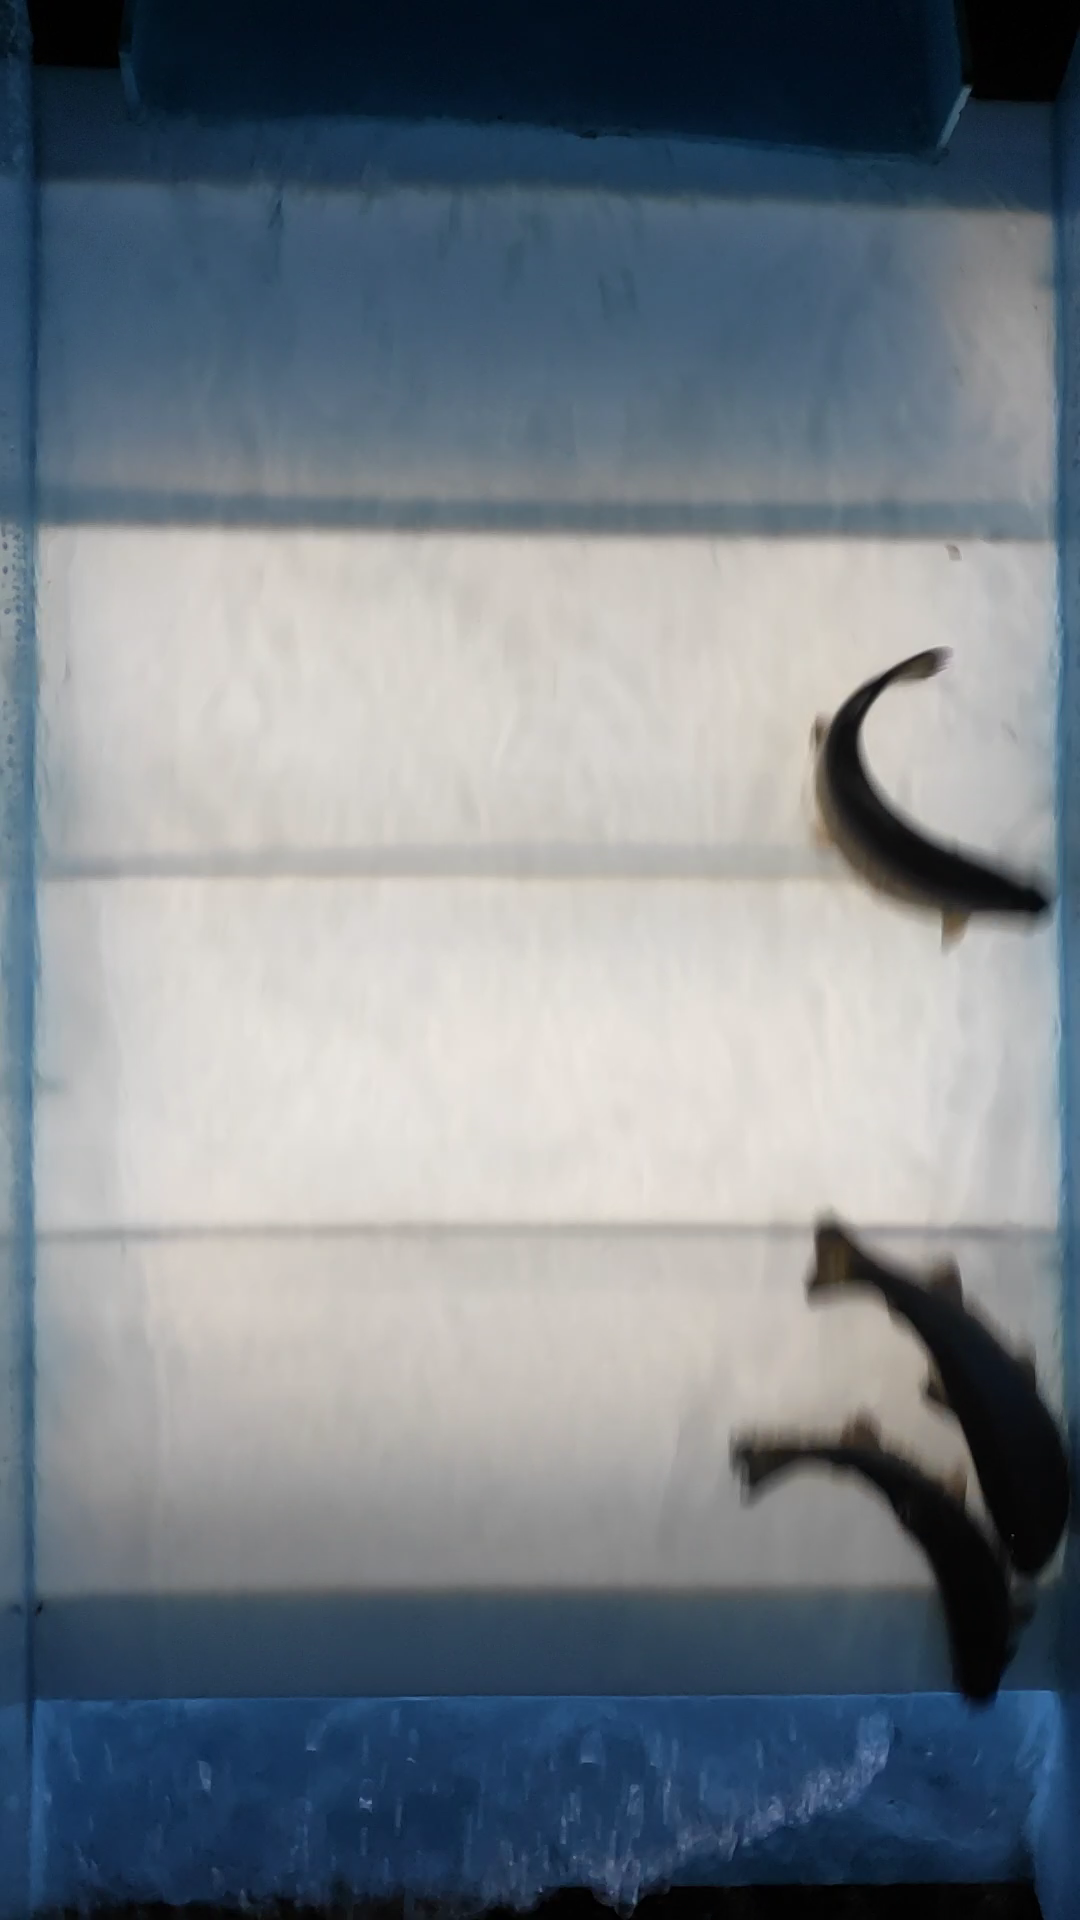fish: (795, 1212, 1080, 1589), (716, 1406, 1045, 1724), (801, 642, 1054, 951)
